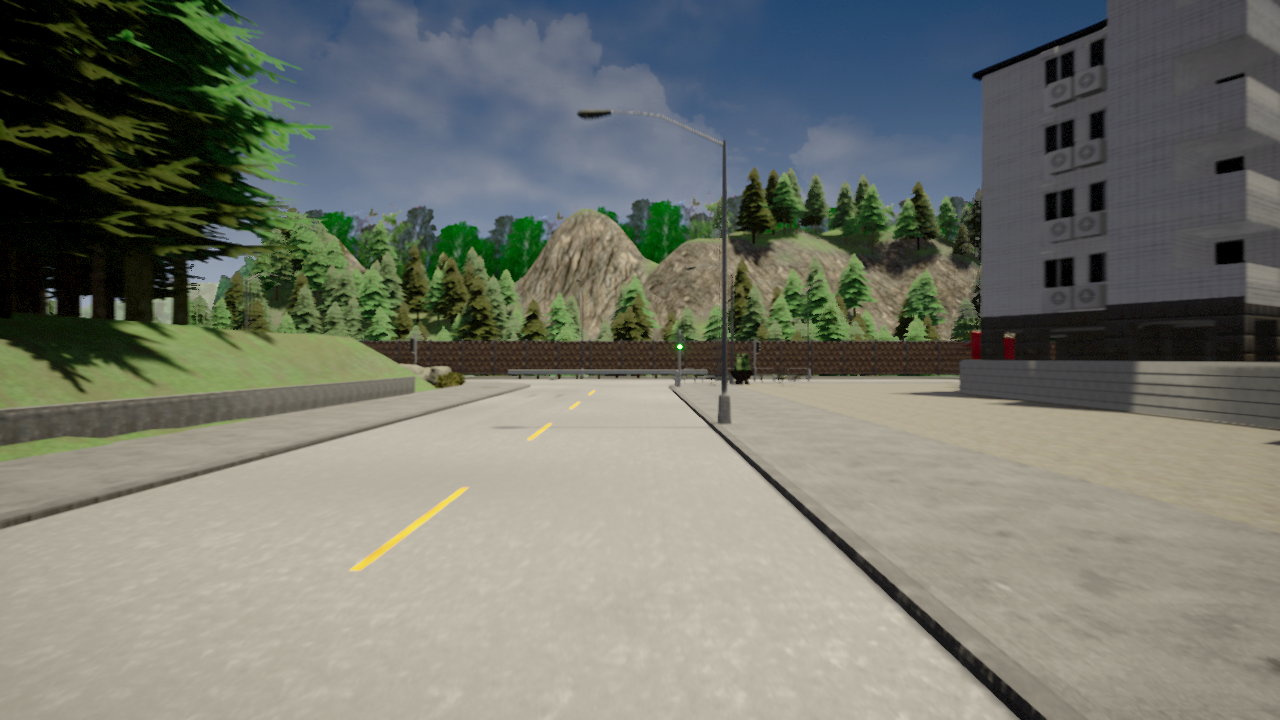green: (675, 335, 684, 350)
